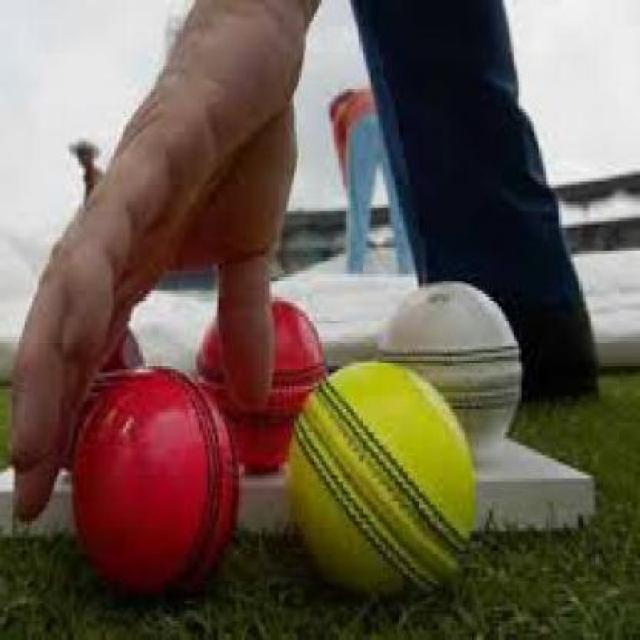ball: (267, 340, 512, 610)
